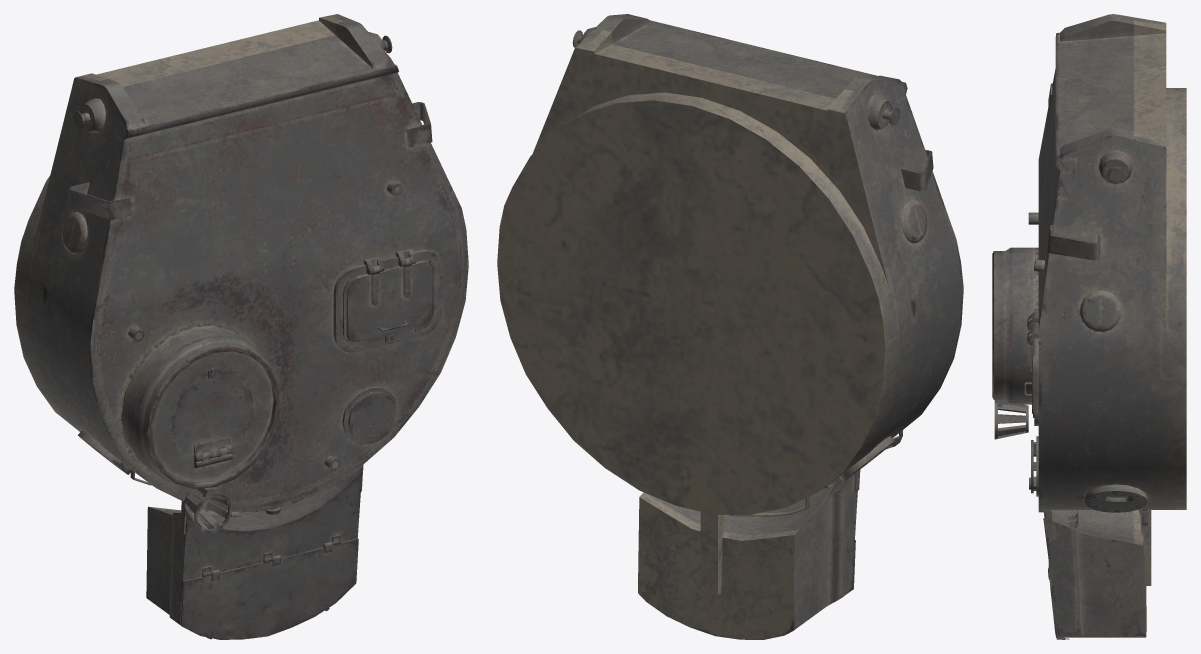
The model's file is Turret_02.glb.
3 views of the same model, side by side, from view 1: azimuth 30°, elevation 25°; view 2: azimuth 150°, elevation 25°; view 3: azimuth 270°, elevation 25° (orthographic). The views are drawn at different scales.
Parts seen in each view (by area): view 1: set_0_group_0; view 2: set_0_group_0; view 3: set_0_group_0.
Part boxes in pixels (bbox=[...]): set_0_group_0: bbox=[14, 14, 468, 639]; set_0_group_0: bbox=[497, 14, 963, 639]; set_0_group_0: bbox=[992, 14, 1186, 639].
Bounding box in the file's own units: 2.39 × 3.39 × 1.1.
1 material, 1 textured.
